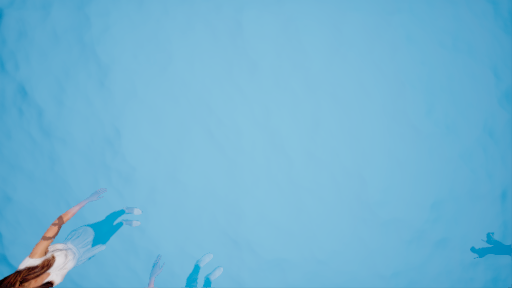person: (5, 194, 141, 288)
